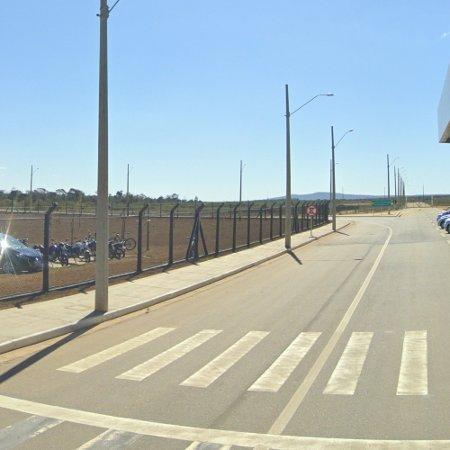crosswalks: (57, 324, 428, 396)
